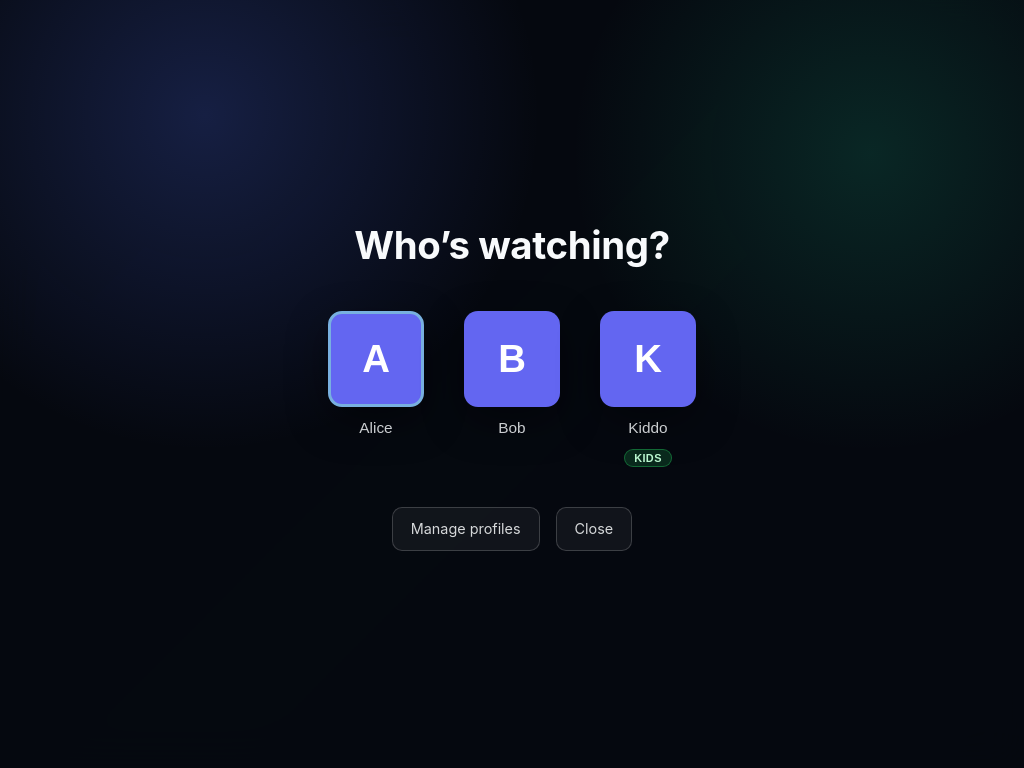
Test: ProfilePicker edit mode › toggles Manage/Done and reveals add tile + per-tile actions
Expected: the text "Add profile" is not shown
Click the button "Manage profiles". click: [466, 529]
box: [392,507,540,551]
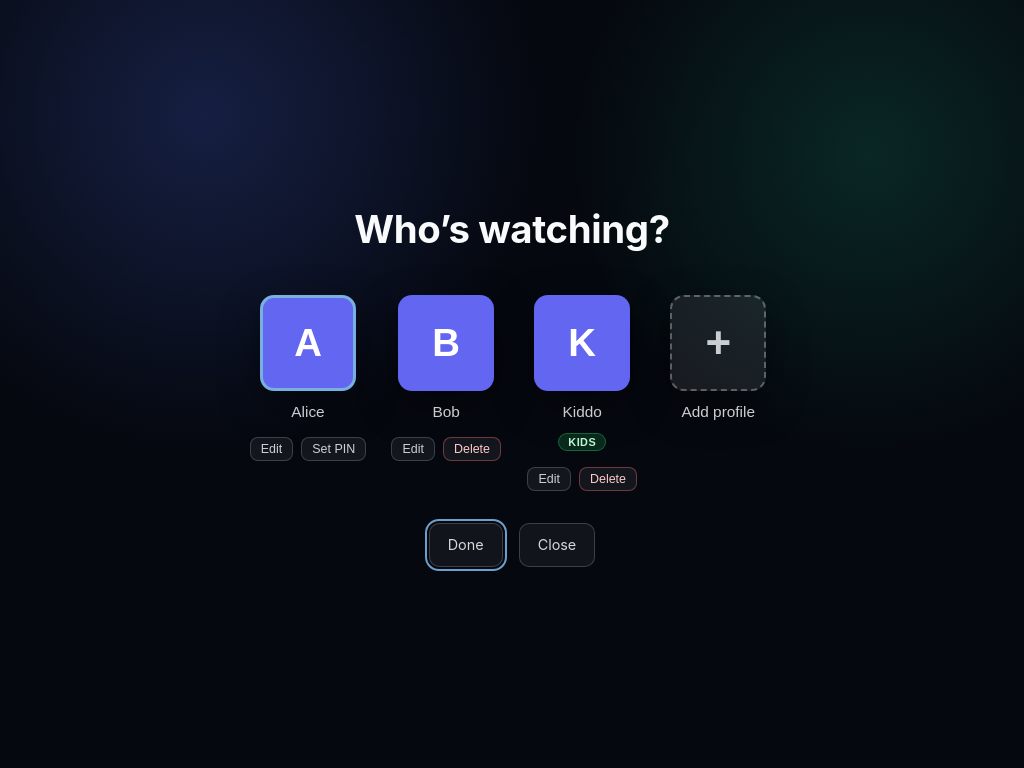
Now the text "Add profile" is shown, box [682,403,755,421]
Now the button "Done" is shown
Now the 1st button "Edit" is shown, box [250,437,293,461]
Click the button "Done". click: [466, 545]
box: [429,523,503,567]
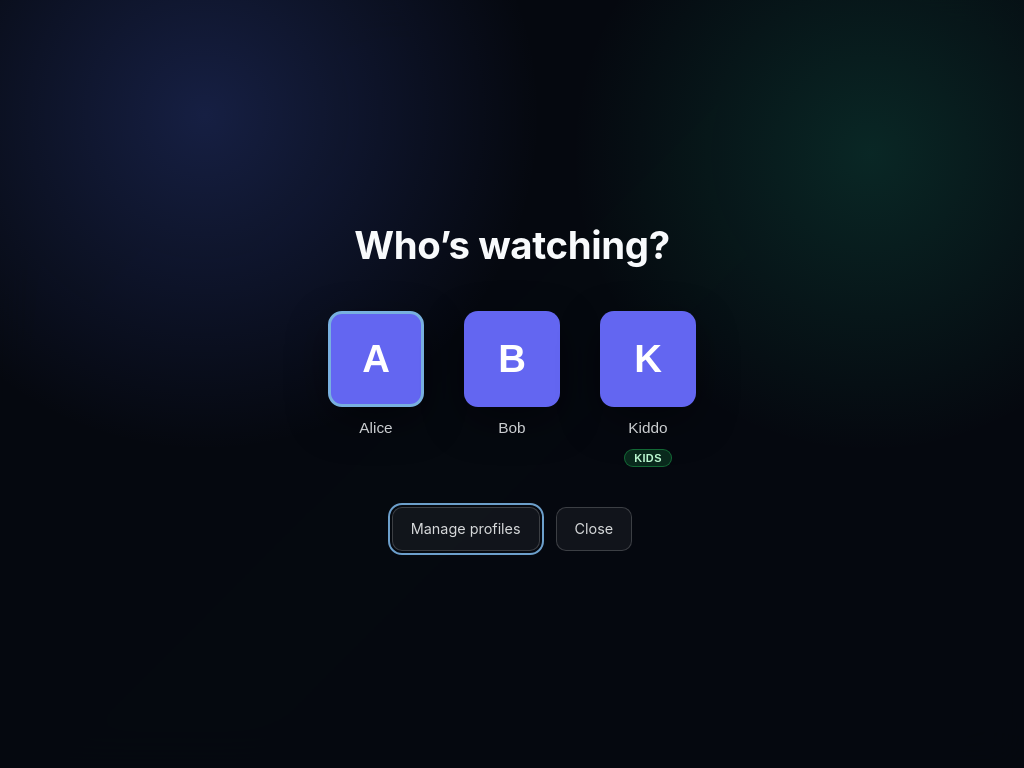
Now the button "Add profile" is gone
